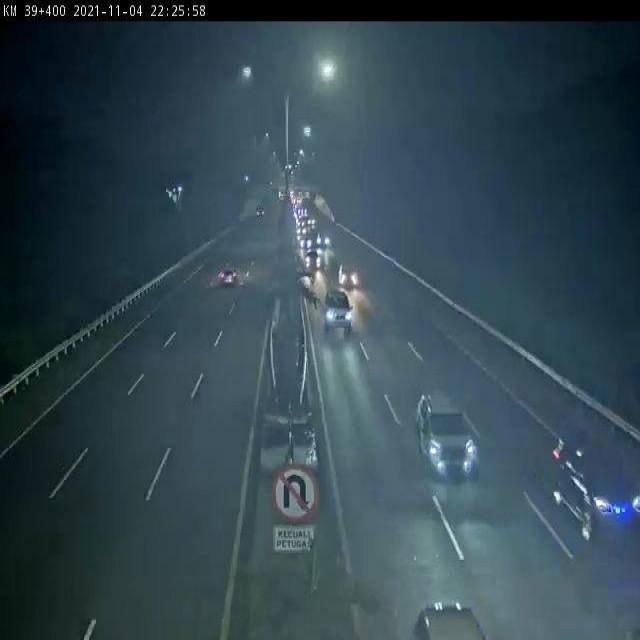car: (548, 416, 640, 568), (406, 392, 488, 489), (324, 289, 352, 332), (338, 265, 358, 287), (220, 266, 240, 286), (305, 250, 321, 270), (316, 231, 331, 248), (301, 236, 312, 248), (297, 228, 307, 236), (299, 218, 306, 225), (308, 218, 315, 225)
